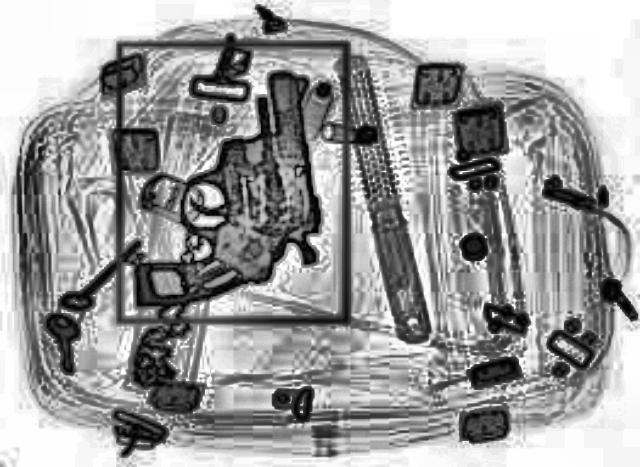Gun: (130, 66, 324, 308)
